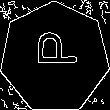P_W: (30, 39, 80, 77)
